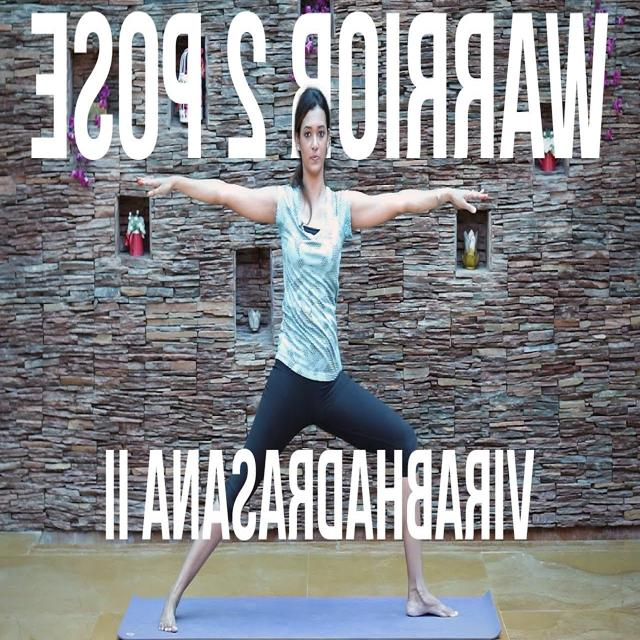Warrior_II: (136, 91, 486, 634)
